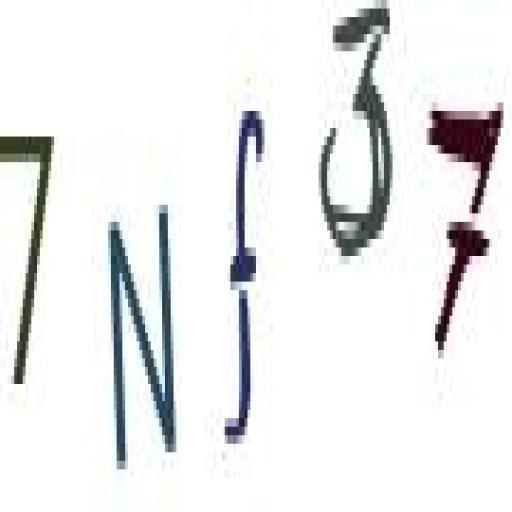3: (318, 0, 404, 275)
7: (419, 85, 507, 379), (0, 125, 58, 407)
N: (102, 184, 182, 482)
f: (222, 88, 275, 480)
